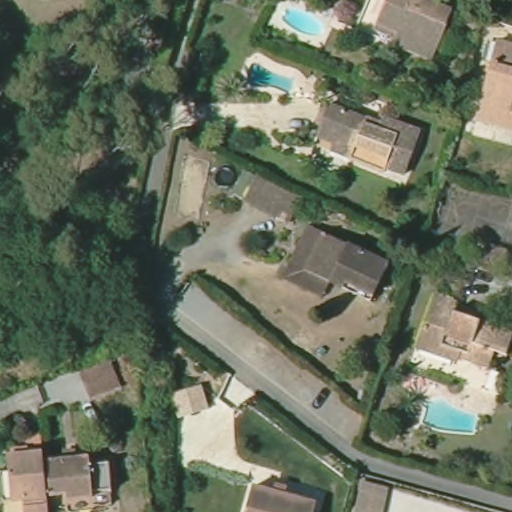pool: (417, 394, 483, 438), (241, 59, 299, 100), (276, 3, 332, 42)
